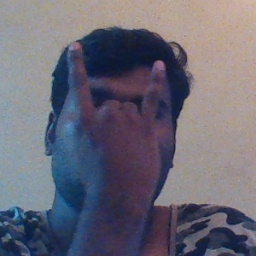V: (55, 43, 176, 194)
